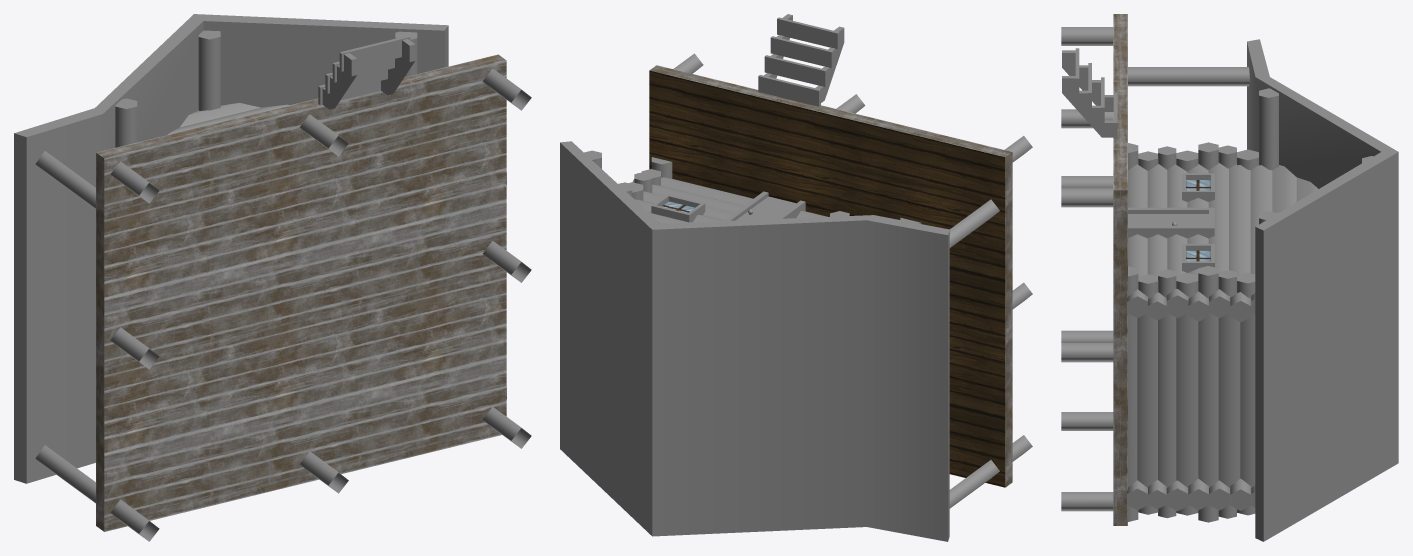
File: Log_House_F.fbx
3 views of the same model, side by side, from view 1: azimuth 30°, elevation 25°; view 2: azimuth 150°, elevation 25°; view 3: azimuth 270°, elevation 25° (orthographic). The views are drawn at different scales.
Parts seen in each view (by area): view 1: Log_House_F; view 2: Log_House_F; view 3: Log_House_F.
Boxes of the visible parts, <box> form: Log_House_F: <box>14,14,531,541</box>; Log_House_F: <box>560,14,1032,541</box>; Log_House_F: <box>1061,14,1398,541</box>.
Size of the model in its own units: 1.26 by 1.23 by 0.9367.
